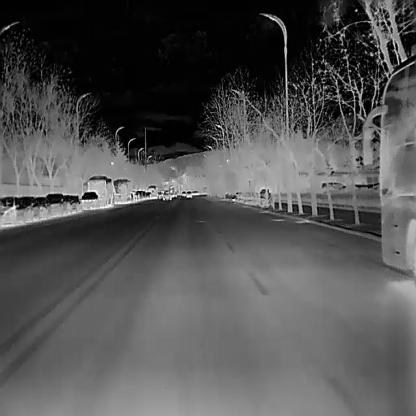bus: (362, 54, 415, 277), (86, 173, 114, 211), (114, 177, 131, 205), (146, 184, 158, 198)
car: (0, 195, 26, 225), (18, 196, 40, 221), (46, 191, 64, 218), (79, 190, 99, 210), (34, 196, 50, 218), (63, 193, 76, 212), (70, 194, 81, 211), (186, 190, 192, 198)
